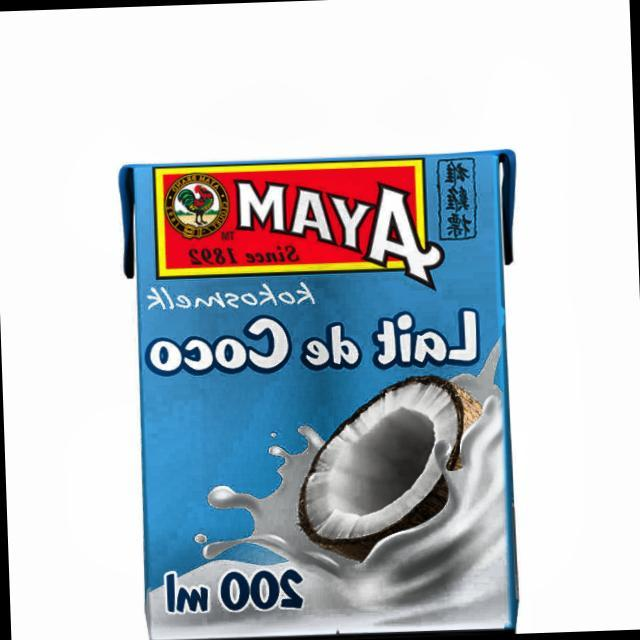cardboard: (119, 148, 532, 640)
